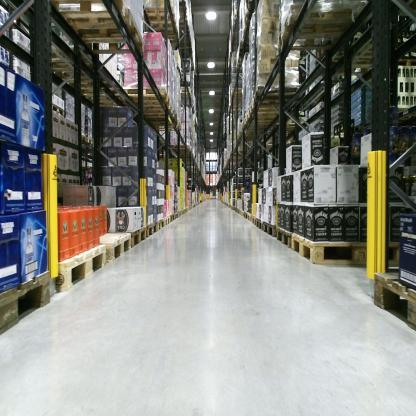pallets: (229, 205, 365, 267), (109, 203, 191, 264), (0, 272, 51, 336), (372, 272, 415, 333), (55, 244, 107, 292)
